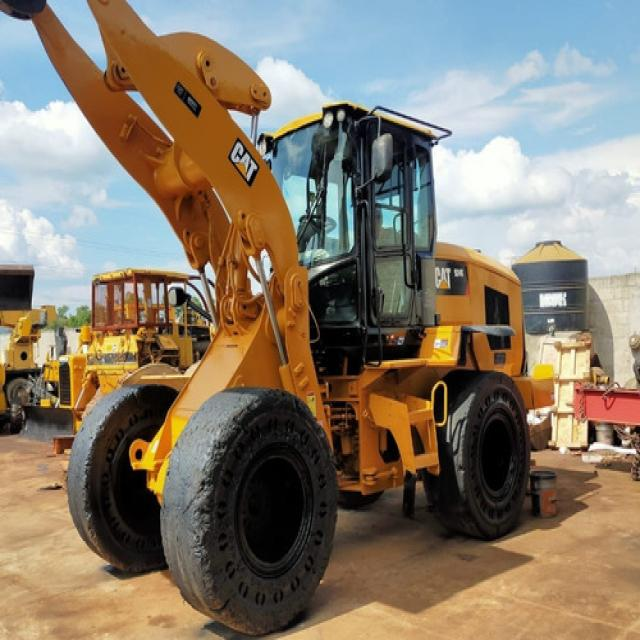buldozerpayloadergrader: (3, 0, 535, 622)
